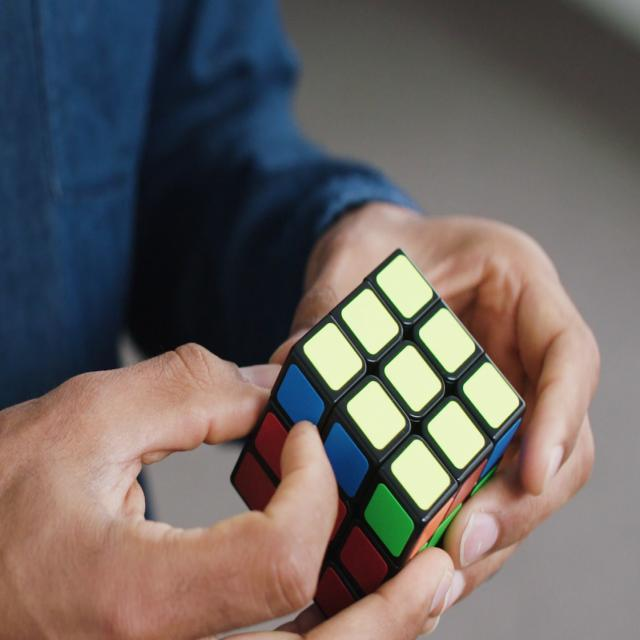Rub: (236, 244, 524, 621)
